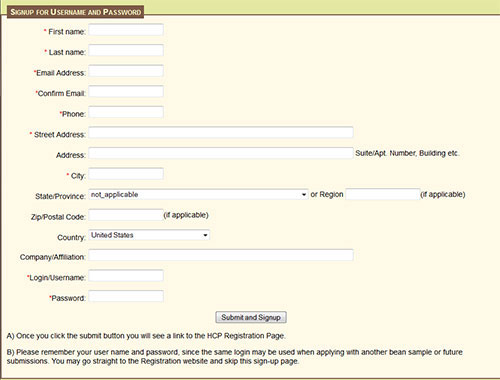button: (211, 310, 288, 324)
dropdown: (89, 226, 214, 244)
textbox: (85, 269, 169, 283)
